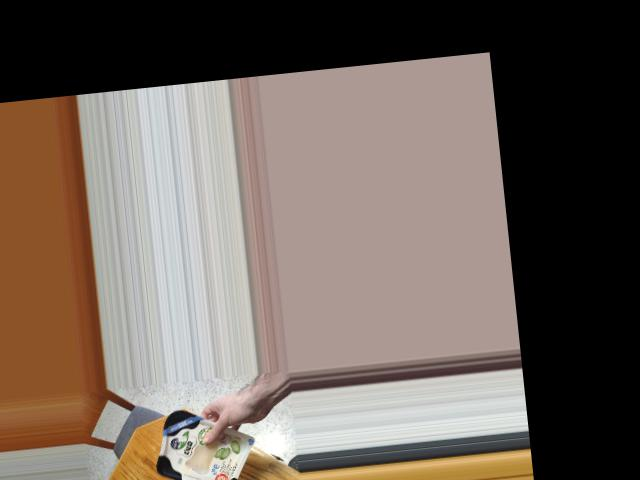cheese: (149, 398, 249, 480)
